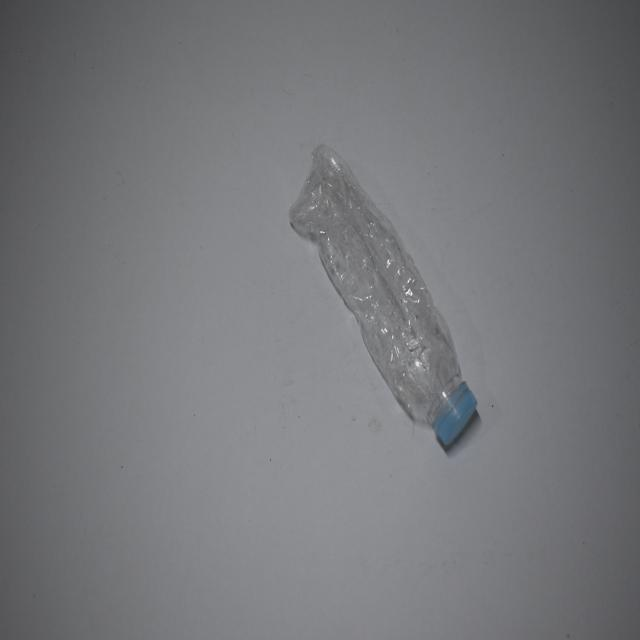empty: (289, 144, 477, 445)
